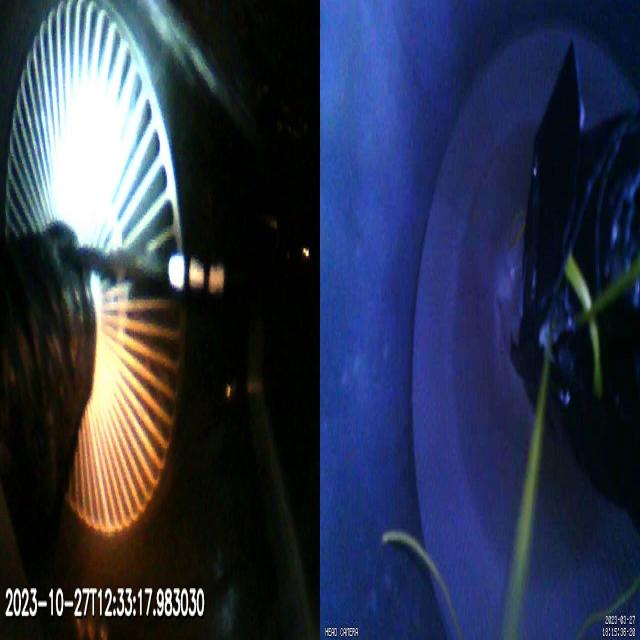white-dots: (167, 253, 224, 296)
